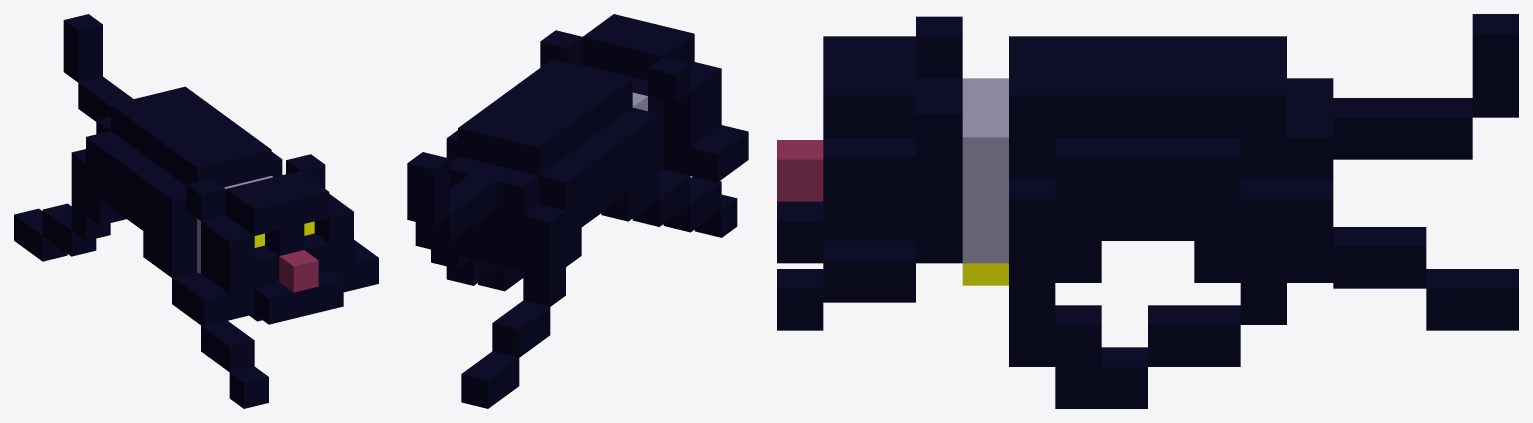
The model's file is cat1.obj.
3 renders of one model, left to right at view 1: azimuth 30°, elevation 25°; view 2: azimuth 150°, elevation 25°; view 3: azimuth 270°, elevation 25°, orthographic. The views are drawn at different scales.
Size of the model in its own units: 0.7 by 0.8 by 1.6.
1 material, 1 textured.
